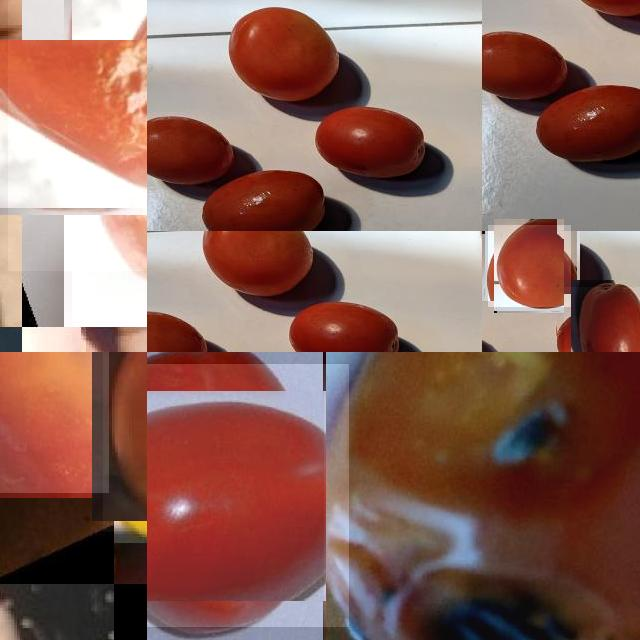1: (8, 0, 147, 271)
Fresh Tomato: (147, 364, 349, 627), (0, 352, 109, 493), (488, 225, 571, 307), (564, 286, 640, 352)
Rotten Tomato: (324, 352, 640, 640)
